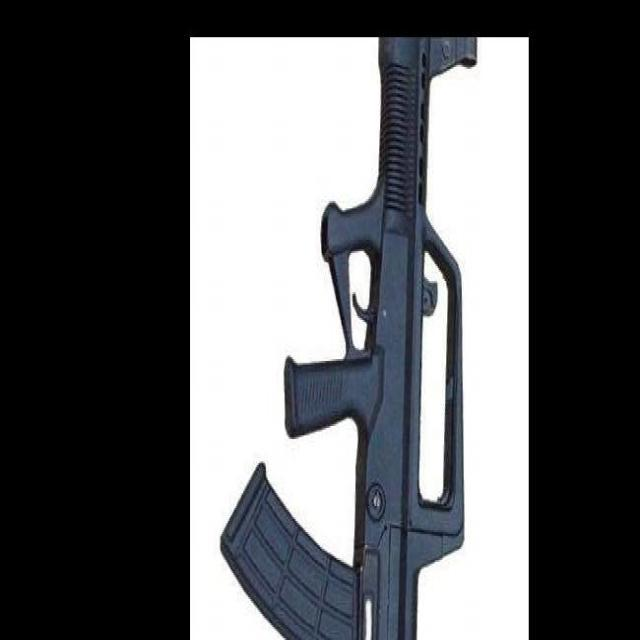weapon: (218, 37, 478, 640)
